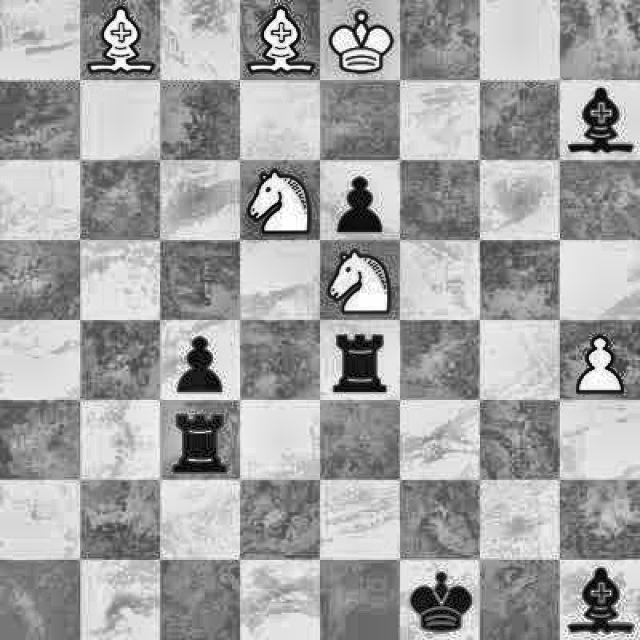black king: (400, 555, 482, 640)
black pawn: (162, 323, 232, 395), (326, 169, 388, 239)
black rook: (322, 318, 398, 396), (170, 396, 235, 480)
white bishop: (565, 561, 640, 640), (567, 75, 635, 155), (86, 3, 155, 78), (250, 5, 318, 77)
white king: (329, 4, 396, 80)
white pawn: (569, 324, 632, 396)
whiteknight: (330, 246, 396, 317), (248, 167, 313, 234)
